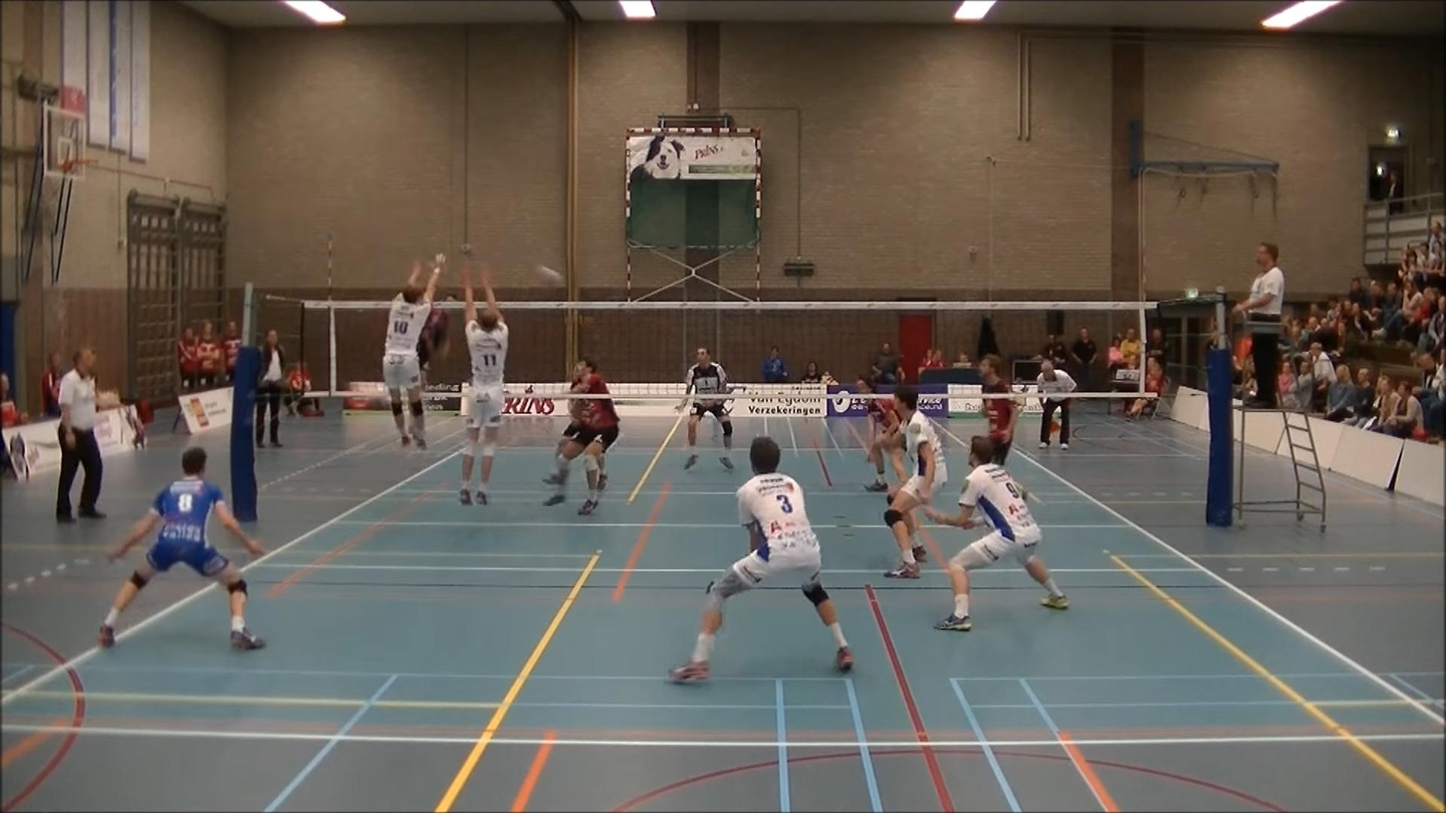attacco: (404, 277, 457, 412)
muro: (454, 258, 523, 511), (385, 250, 451, 445)
